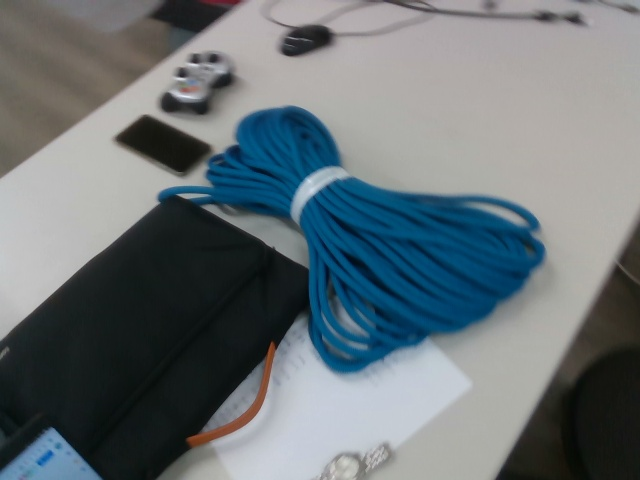rope: (155, 105, 550, 376)
